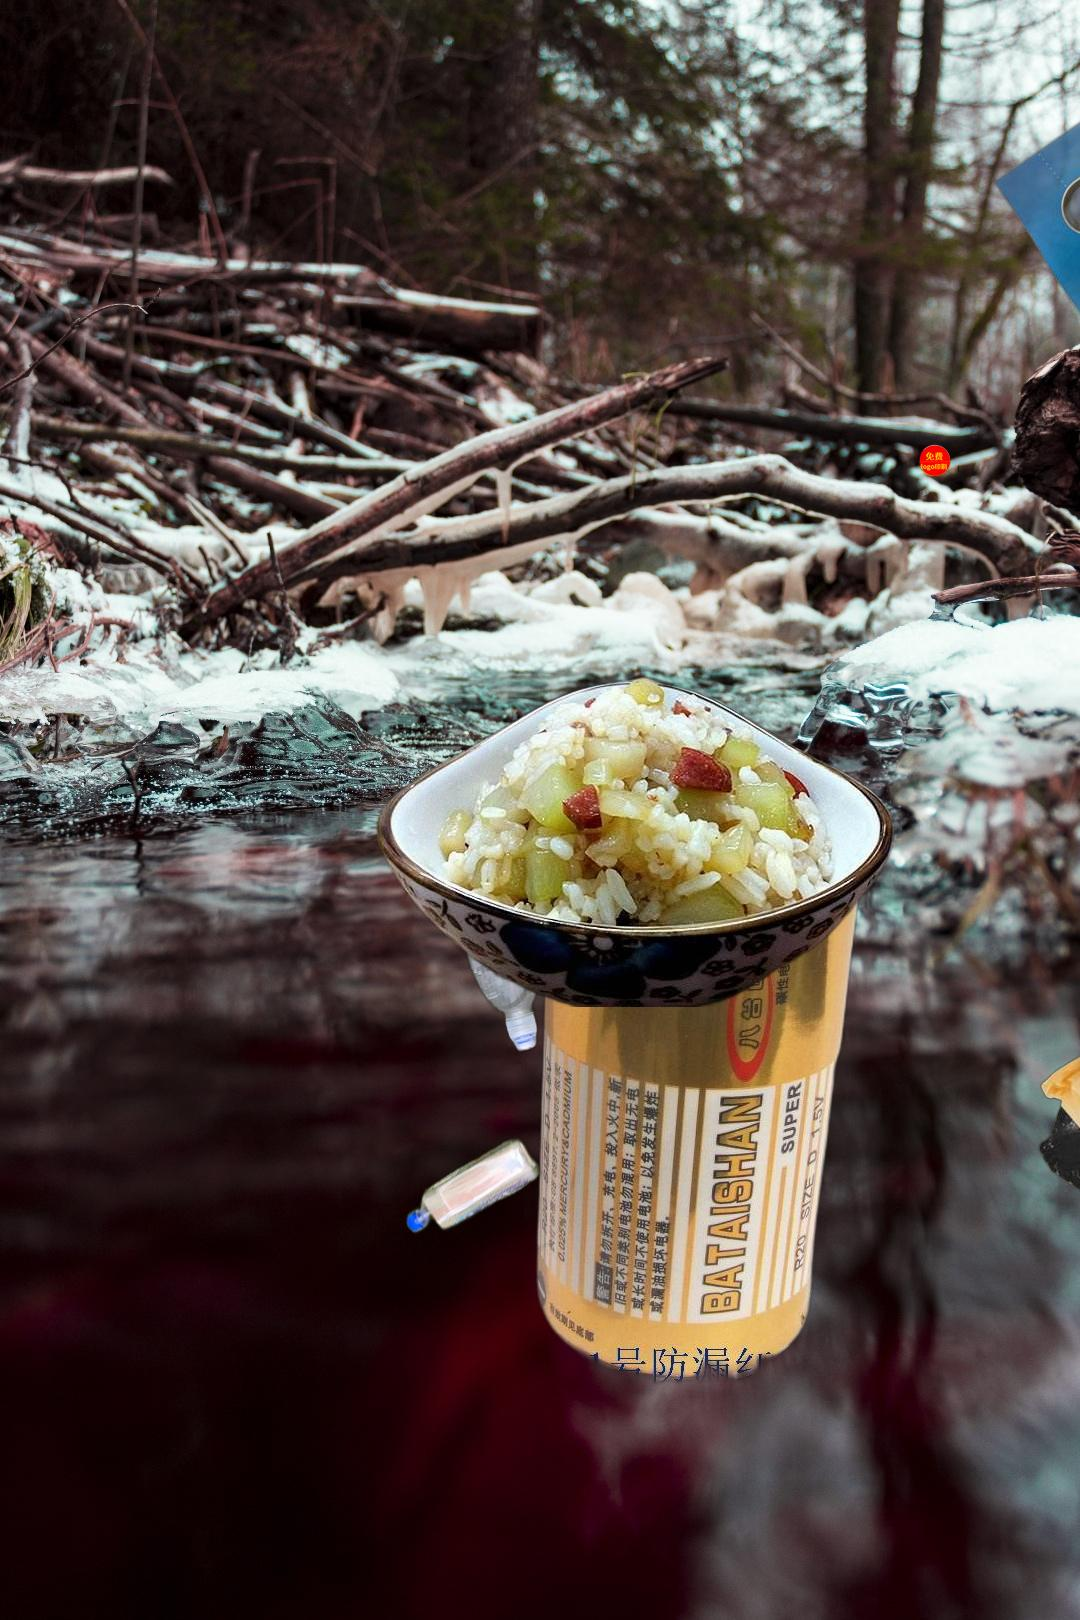battery: (532, 783, 865, 1395)
biological: (371, 673, 900, 1006)
paper: (974, 98, 1080, 482)
penholder: (916, 330, 1064, 479)
plastic-bag: (1035, 1045, 1080, 1207)
plastic-bottles: (438, 818, 544, 1057), (709, 769, 843, 926), (403, 1132, 545, 1239)
